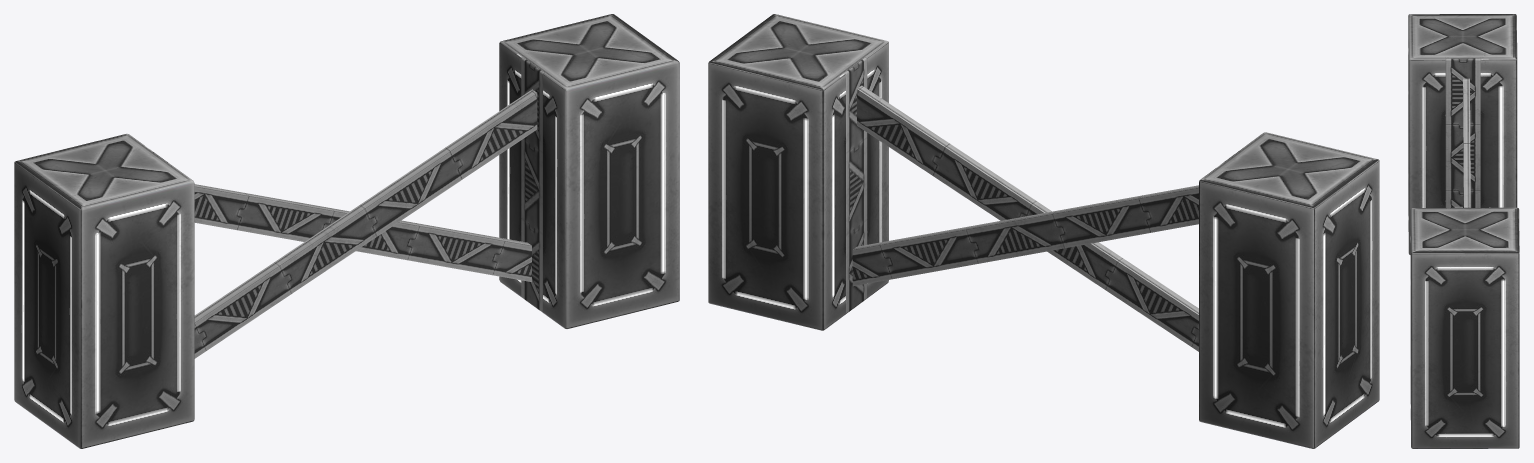
The model's file is ARC1110025.fbx.
3 views of the same model, side by side, from view 1: azimuth 30°, elevation 25°; view 2: azimuth 150°, elevation 25°; view 3: azimuth 270°, elevation 25° (orthographic). The views are drawn at different scales.
Visible parts, largest first — view 1: smARC1110025; view 2: smARC1110025; view 3: smARC1110025.
Part boxes in pixels (x1,y1,x2,y2): smARC1110025: (14, 14, 679, 448); smARC1110025: (708, 14, 1379, 448); smARC1110025: (1408, 14, 1519, 448).
Bounding box in the file's own units: 480 × 183 × 94.41.
Materials: 1 (1 with a texture image).
